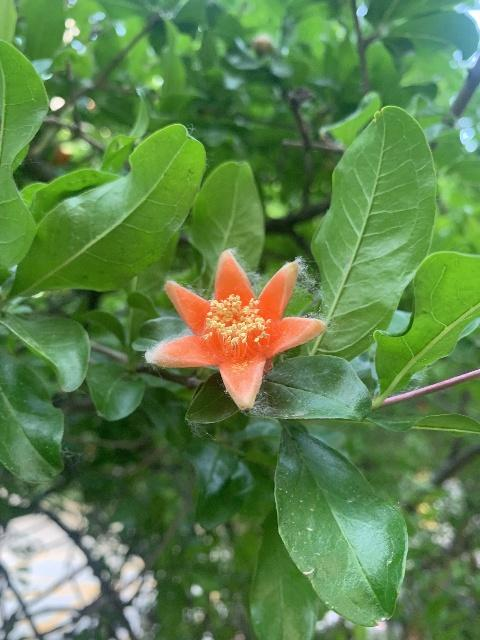flower: (145, 250, 325, 410)
